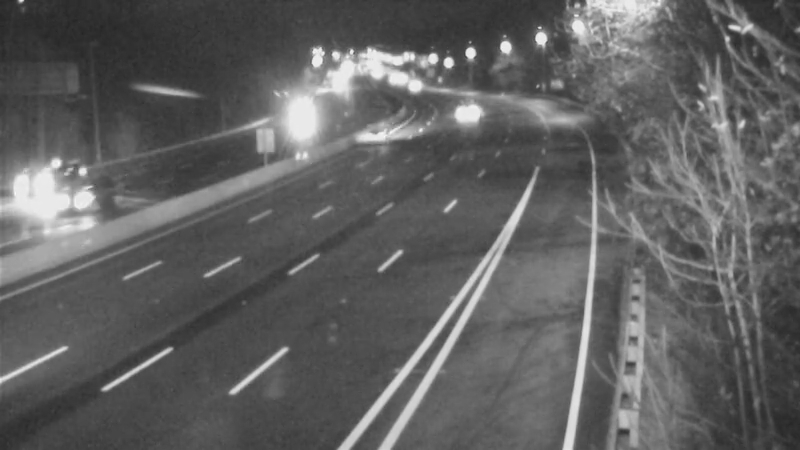vehicle: (40, 162, 120, 242), (1, 152, 78, 232), (432, 88, 482, 138), (355, 109, 405, 159), (270, 95, 320, 145)
